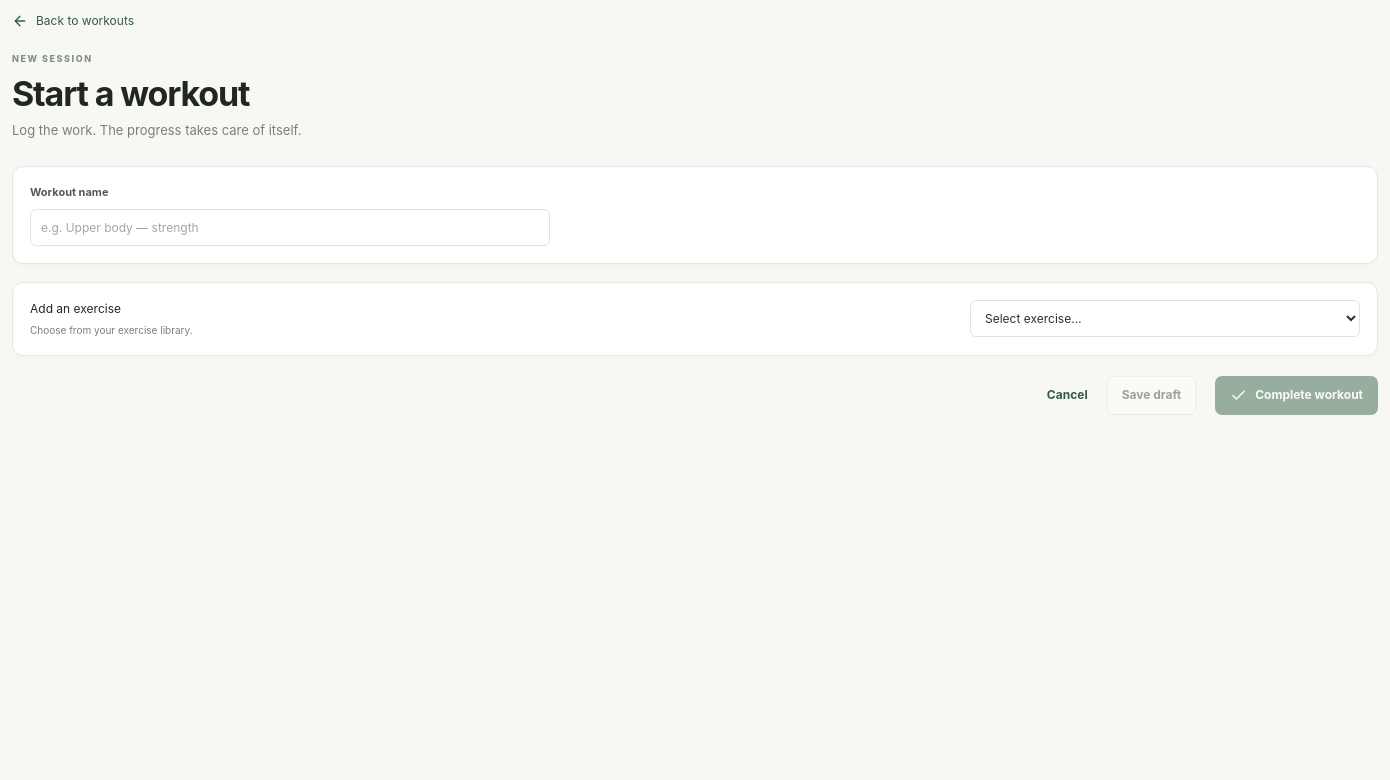
Level Up frontend › completes a workout with multiple entered sets
Select "Barbell Bench Press · Chest" in the dropdown named "Select an exercise". click: (1165, 319)
box: 970,300 -> 1360,337
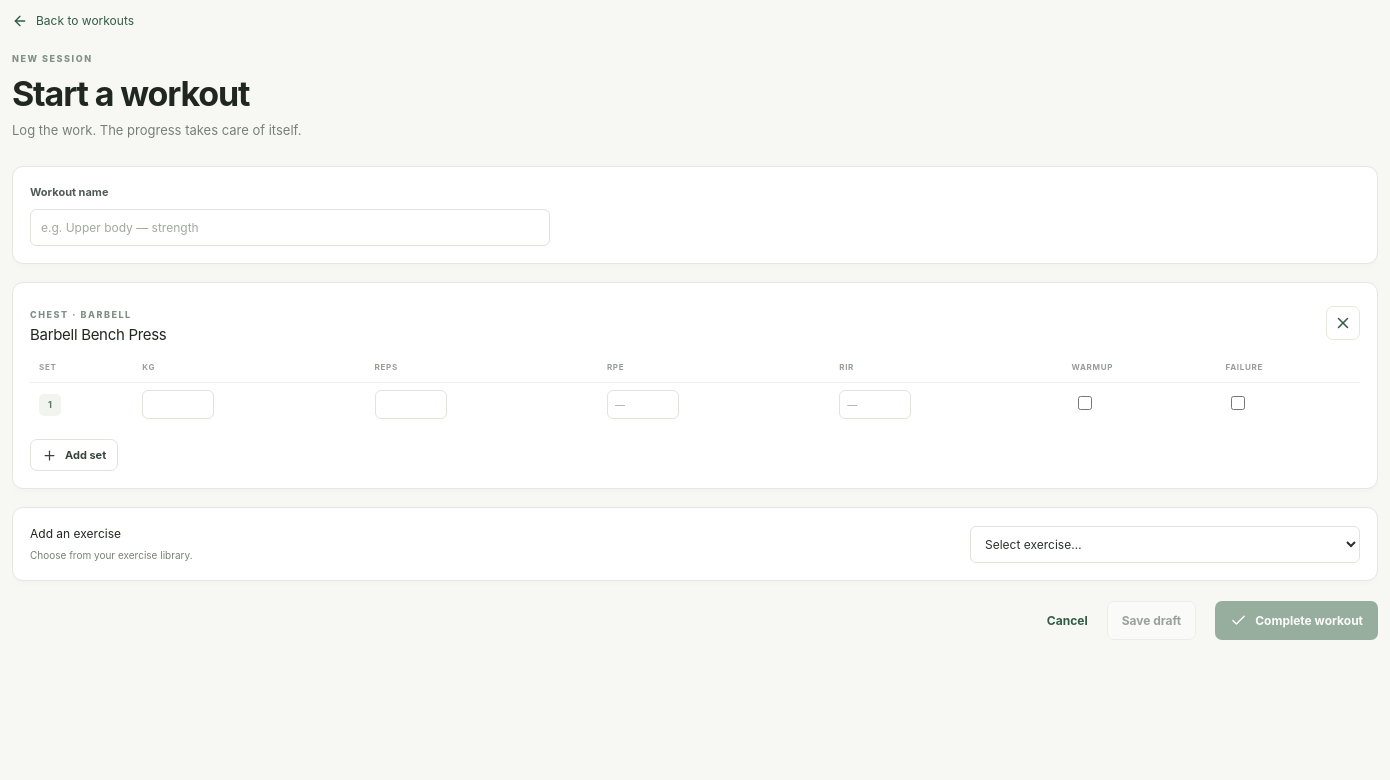
Type "60" into the number field named "Set 1 weight". click: (178, 405)
box: 142,390 -> 214,419
Type "10" into the number field named "Set 1 reps". click: (411, 405)
box: 375,390 -> 447,419
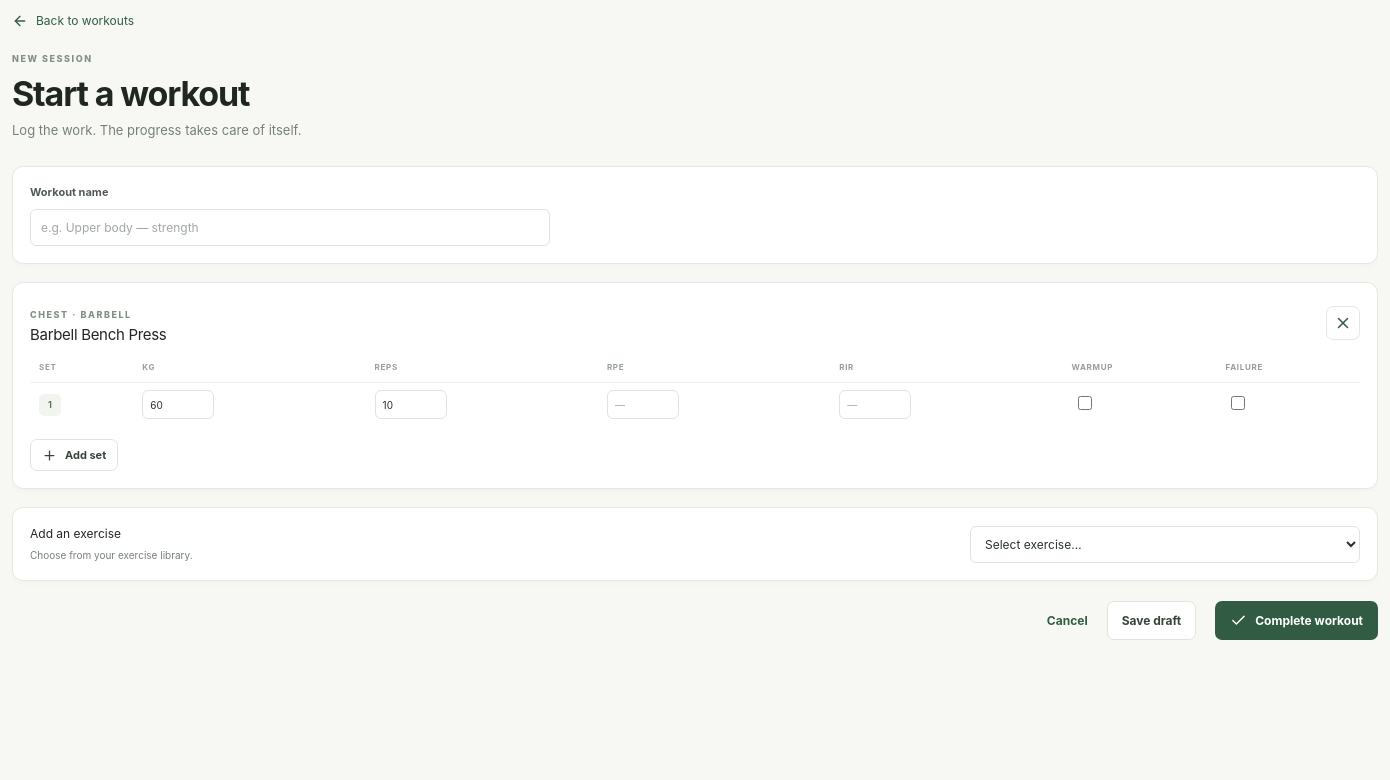
Click the button "Add set". click: (74, 455)
box: 30,439 -> 118,471
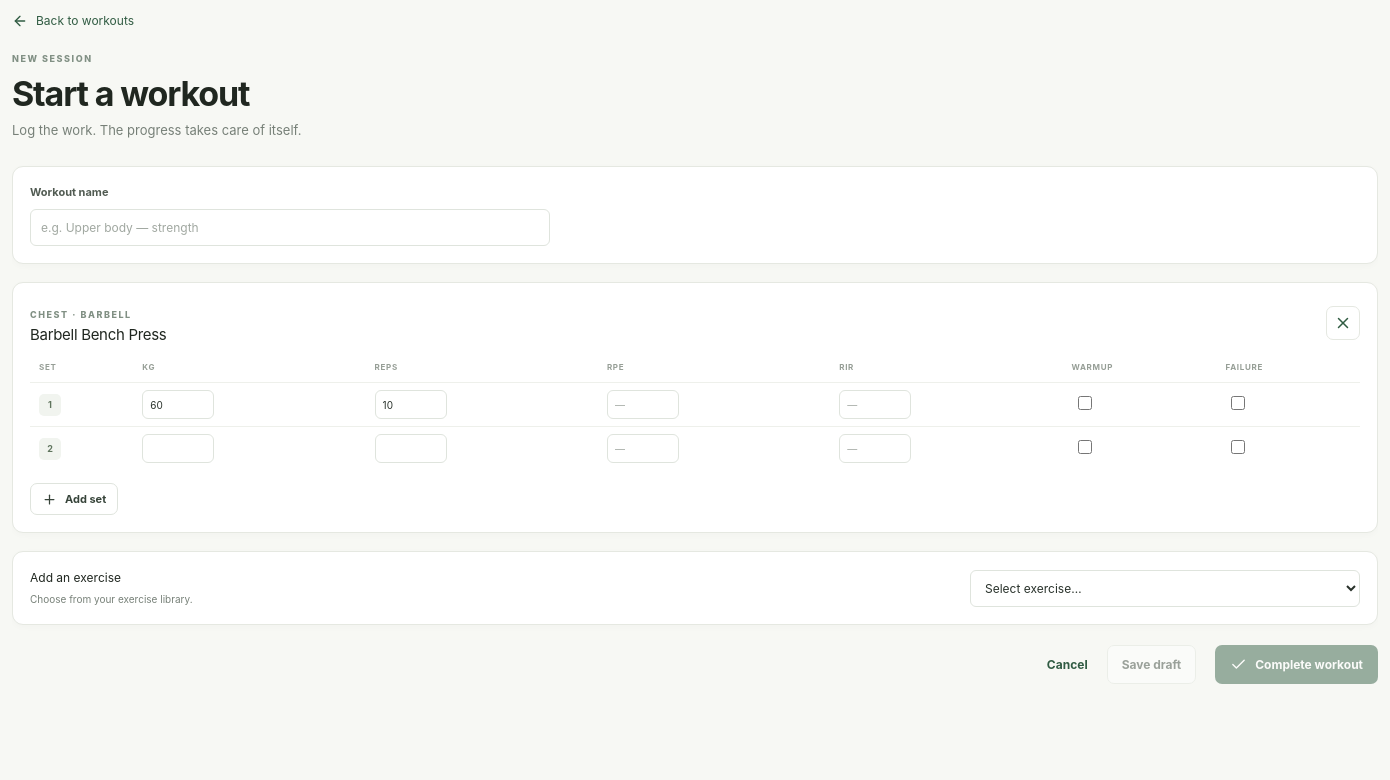
Type "65" into the number field named "Set 2 weight". click: (178, 449)
box: 142,434 -> 214,463
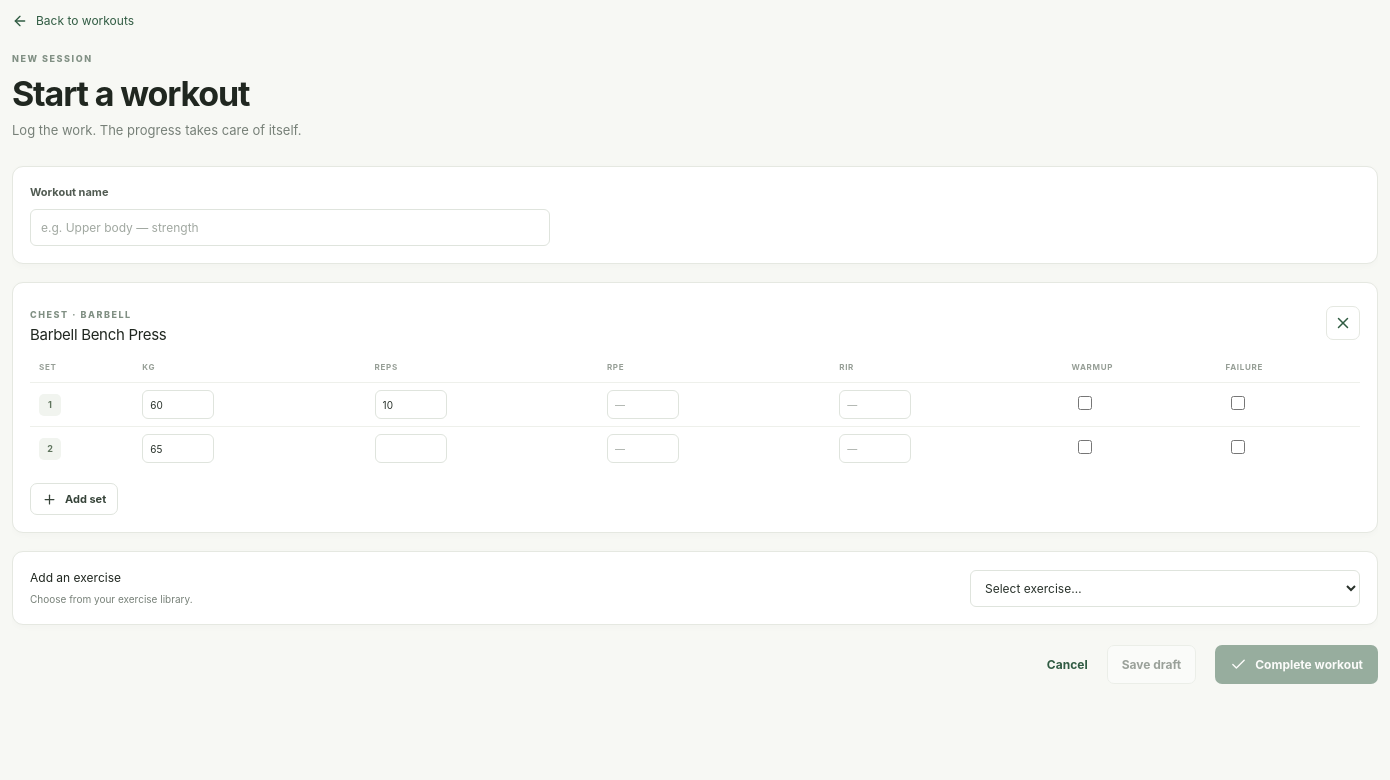
Type "8" into the number field named "Set 2 reps". click: (411, 449)
box: 375,434 -> 447,463
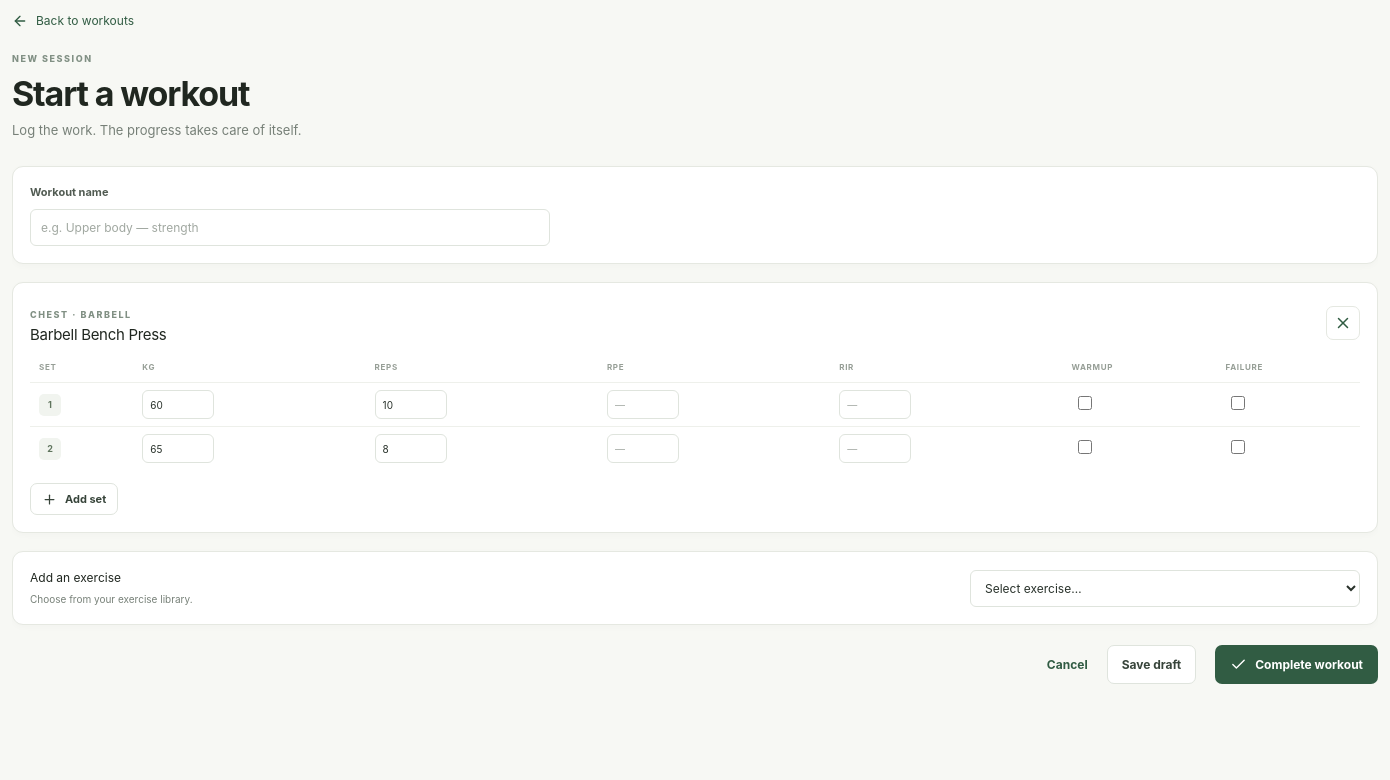
Click the button "Complete workout". click: (1297, 665)
box: 1215,645 -> 1378,684
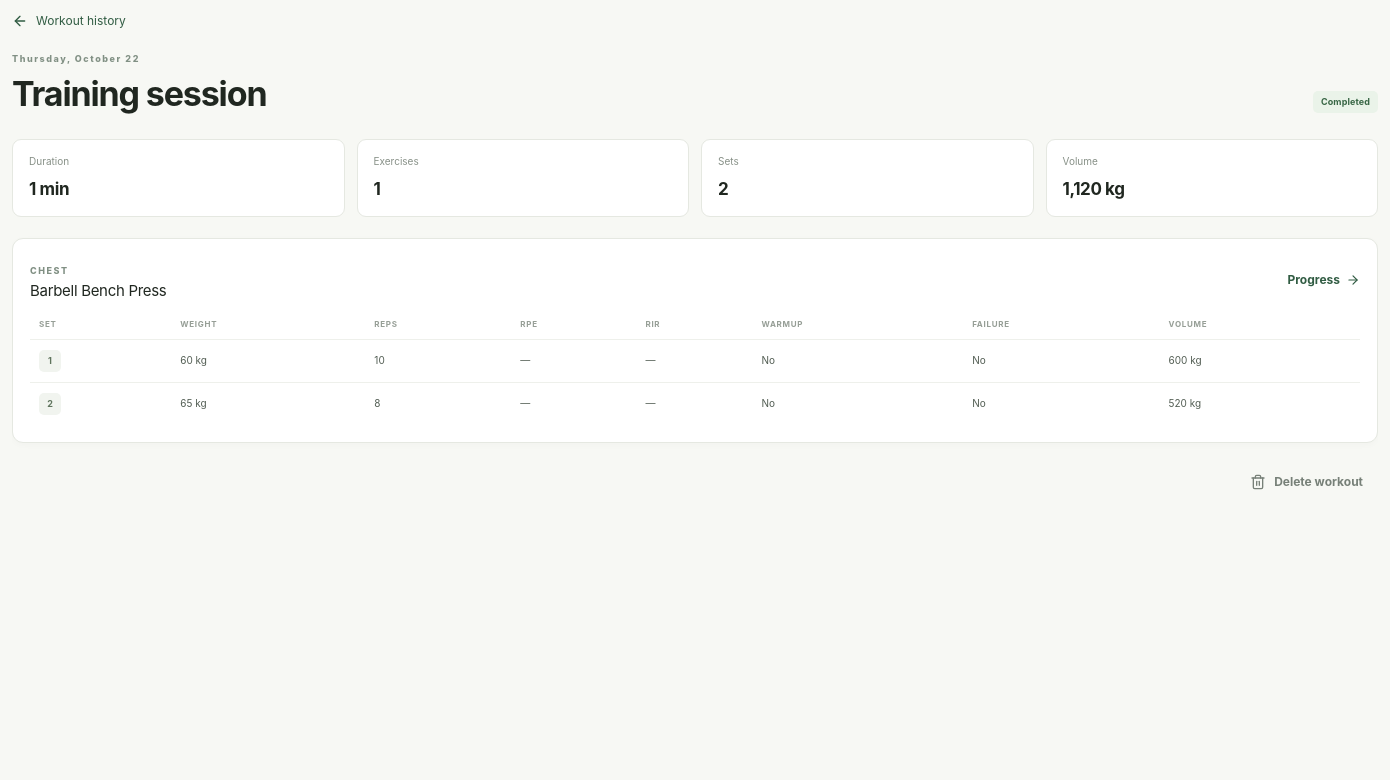
Now the heading "Training session" is shown, box 12,74 -> 266,113
Now the text "65 kg" is shown, box 171,382 -> 365,425
Now the text "8" is shown, box 365,382 -> 511,425
